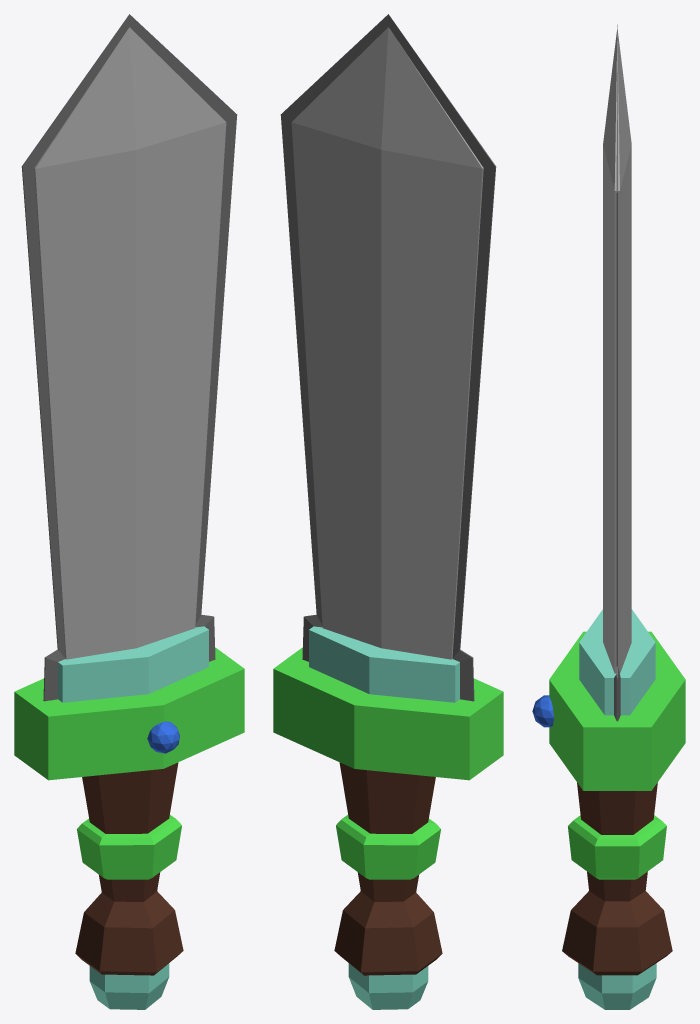
The model's file is Sword.fbx.
3 renders of one model, left to right at view 1: azimuth 30°, elevation 25°; view 2: azimuth 150°, elevation 25°; view 3: azimuth 270°, elevation 25°, orthographic.
Visible parts, largest first — view 1: Cylinder; view 2: Cylinder; view 3: Cylinder.
Boxes of the visible parts, box(x1,y1,x2,y2) form: Cylinder: box(14, 14, 244, 1009); Cylinder: box(273, 14, 503, 1009); Cylinder: box(532, 24, 685, 1009).
Size of the model in its own units: 363 by 1598 by 225.
